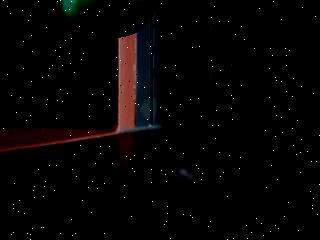Lime: (53, 0, 163, 40)
